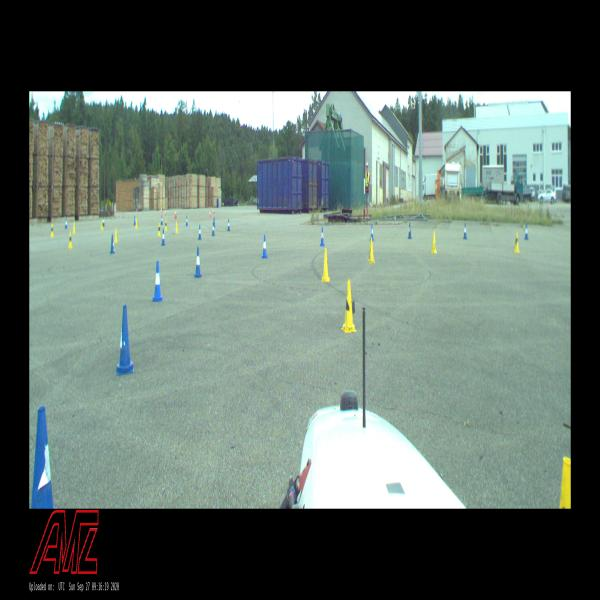blue_cone: (30, 406, 54, 509), (116, 305, 134, 376), (152, 261, 164, 302), (195, 247, 202, 278), (262, 236, 268, 258), (110, 235, 115, 253), (320, 227, 324, 246), (524, 223, 528, 241), (464, 222, 468, 240), (408, 223, 412, 239), (370, 224, 374, 240), (162, 230, 166, 245), (198, 224, 201, 239), (212, 223, 215, 236), (227, 219, 230, 231), (65, 217, 67, 228), (213, 217, 215, 228), (186, 216, 188, 226), (161, 215, 163, 225)
orange_cone: (175, 208, 177, 219), (209, 210, 211, 217), (162, 207, 163, 214), (165, 209, 166, 216), (213, 208, 214, 215)
yellow_cone: (342, 280, 356, 334), (558, 457, 571, 508), (321, 248, 330, 282), (368, 238, 375, 264), (513, 232, 520, 254), (430, 231, 437, 253), (68, 232, 72, 248), (114, 228, 118, 244), (50, 223, 54, 237), (158, 222, 161, 236), (73, 221, 76, 234), (135, 219, 138, 230), (165, 219, 167, 231), (101, 219, 103, 230), (176, 222, 178, 233)
